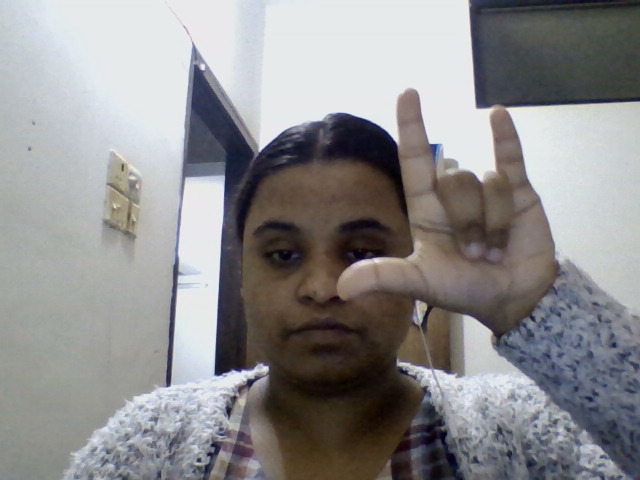I Love You: (311, 83, 612, 323)
